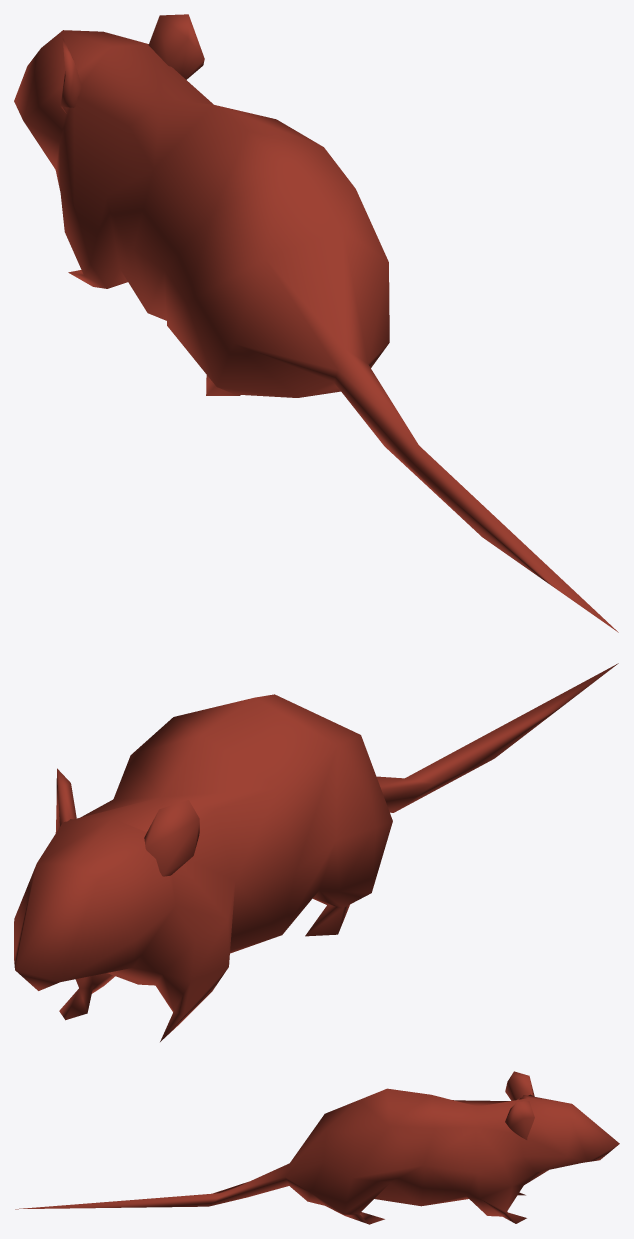
The model's file is mouse.obj.
3 renders of one model, top to bottom at view 1: azimuth 30°, elevation 25°; view 2: azimuth 150°, elevation 25°; view 3: azimuth 270°, elevation 25°, orthographic. The views are drawn at different scales.
Visible parts, largest first — view 1: Free+Pack+-+Lowpoly+Animal.007; view 2: Free+Pack+-+Lowpoly+Animal.007; view 3: Free+Pack+-+Lowpoly+Animal.007.
Part boxes in pixels (x1,y1,x2,y2): Free+Pack+-+Lowpoly+Animal.007: (14, 14, 618, 632); Free+Pack+-+Lowpoly+Animal.007: (14, 663, 618, 1041); Free+Pack+-+Lowpoly+Animal.007: (15, 1071, 619, 1224).
Bounding box in the file's own units: 0.1517 × 0.1843 × 0.8231.
